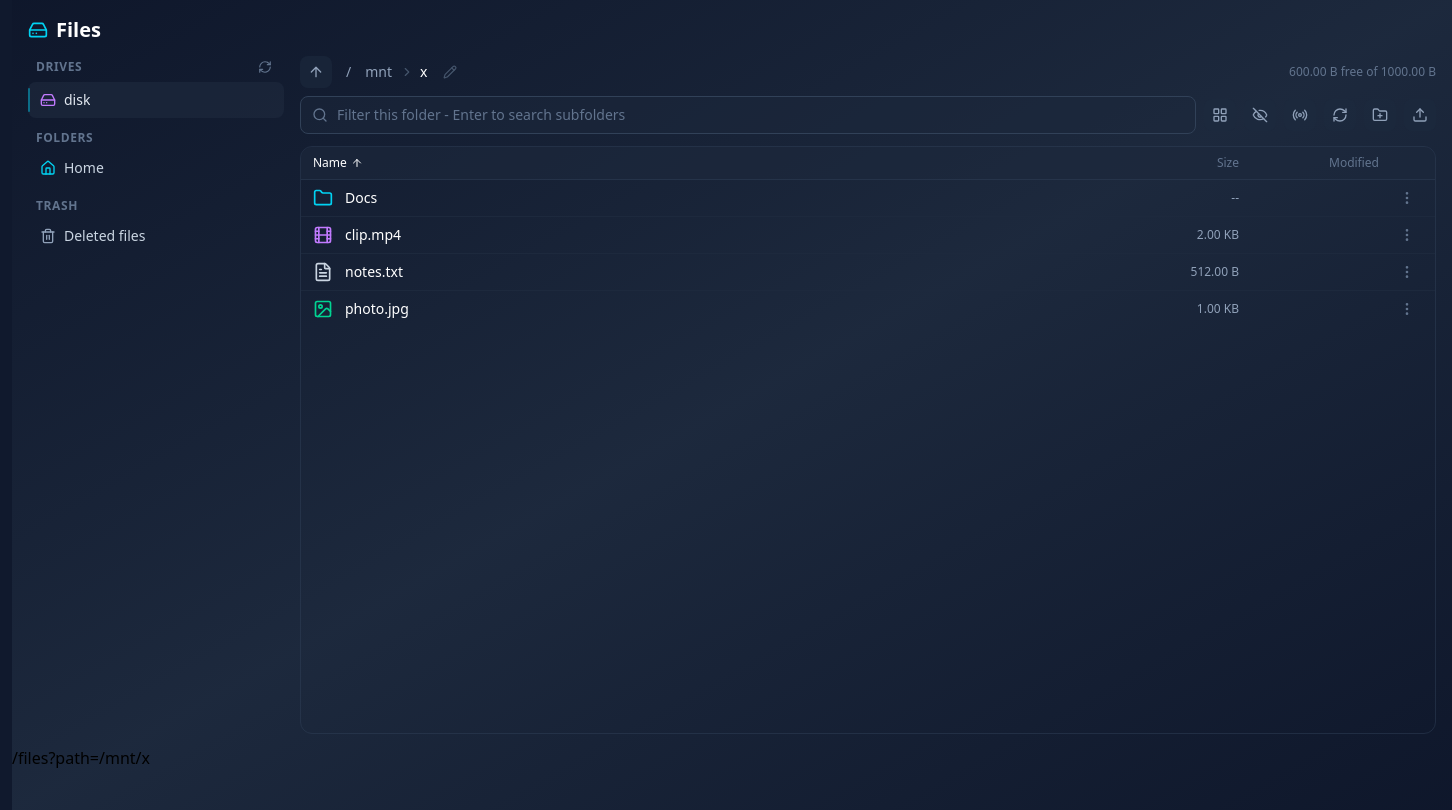
ExplorerPage - click opens, press-and-hold selects › shift-click selects the range from the last toggled row; meta-click toggles like ctrl
Check: the text "clip.mp4" is shown, box [345, 225, 401, 245]
Click the element showing "Docs --" at [868, 198], box [301, 180, 1435, 217]
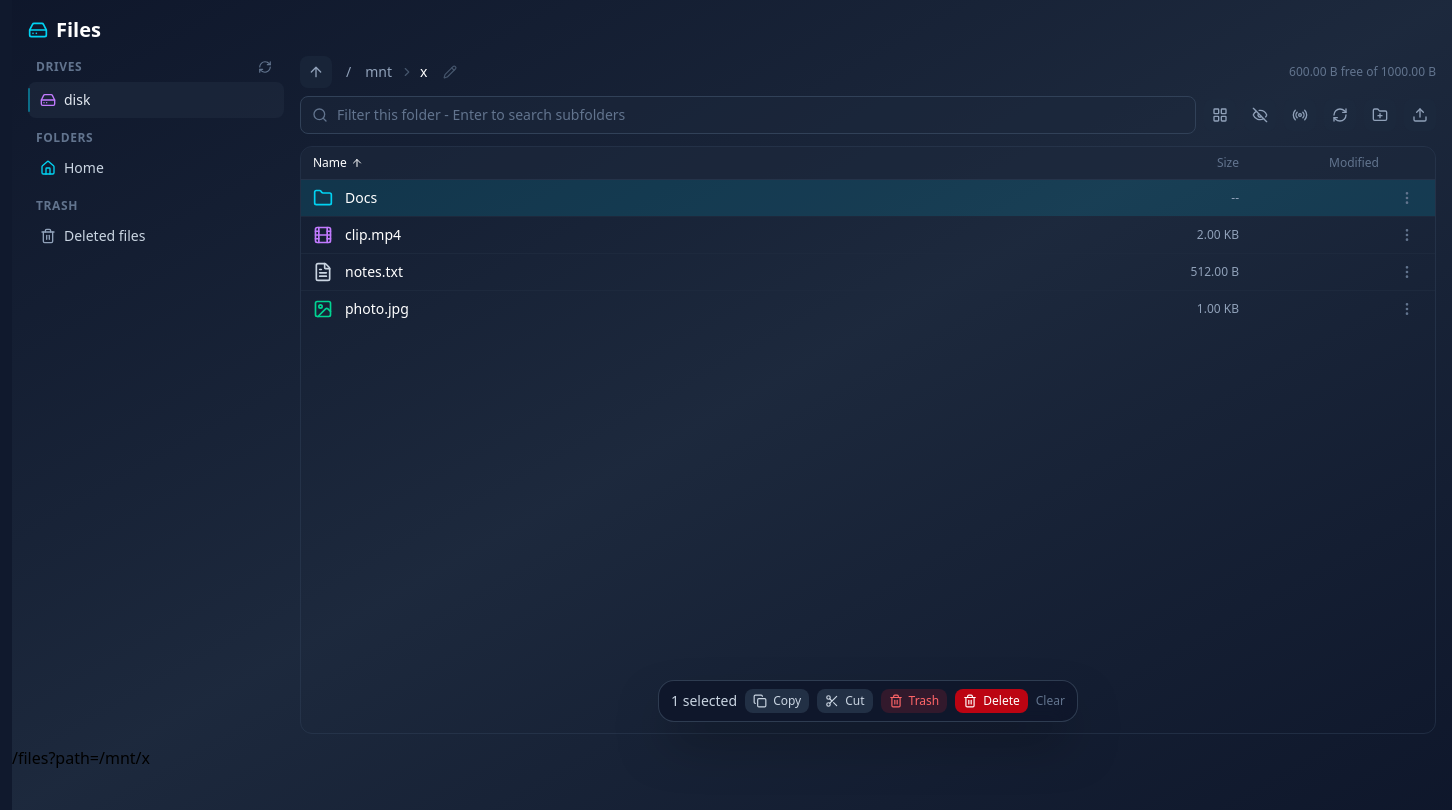
Click the element showing "notes.txt 512.00 B" at [868, 272], box [301, 254, 1435, 291]
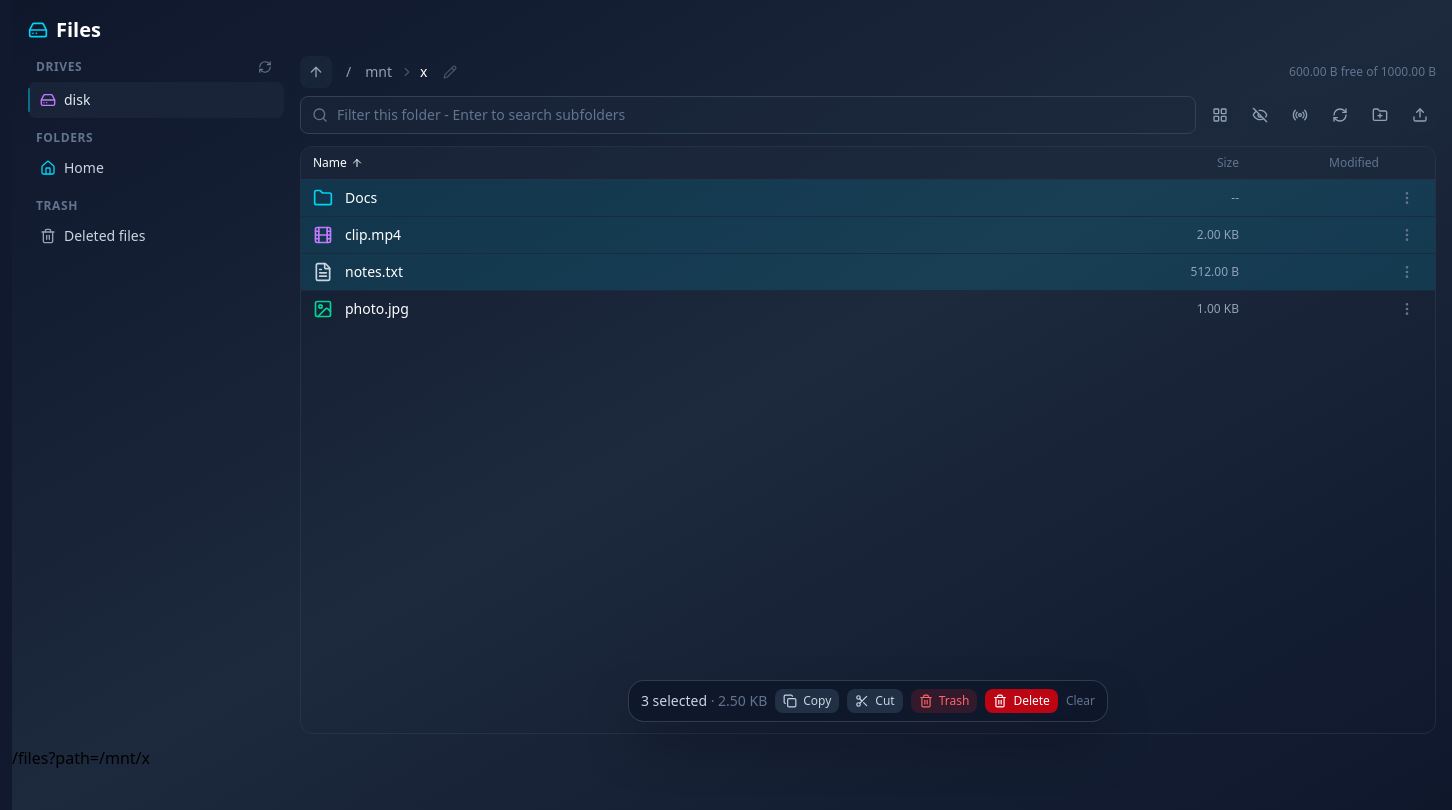
Check: the text "3 selected" is shown, box [641, 691, 767, 711]
// The anchor outlives a Clear, so the next shift-click ranges from it again
Click the button "Clear" at [1080, 701], box [1066, 693, 1095, 709]
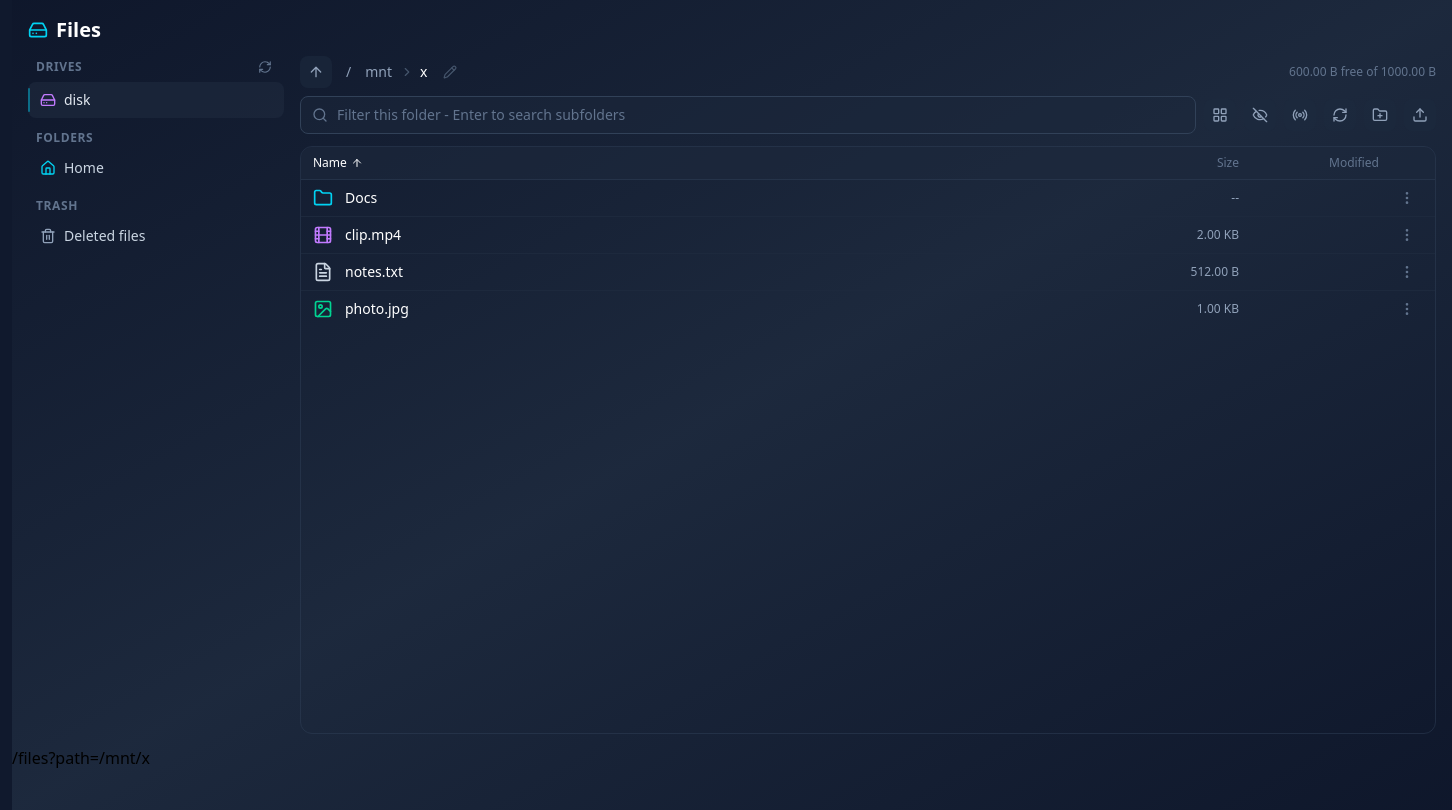
Click the element showing "photo.jpg 1.00 KB" at [377, 308], box [313, 299, 1423, 319]
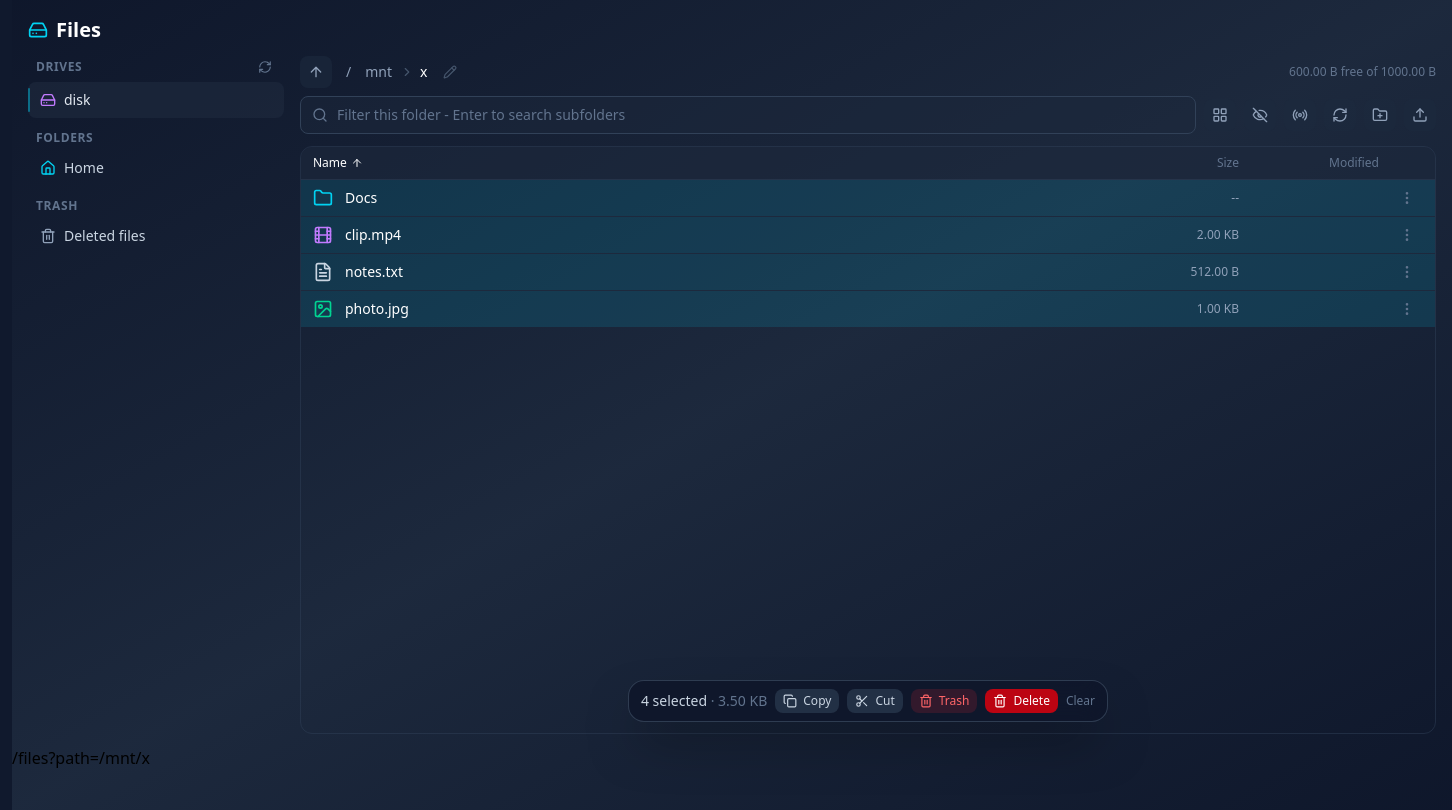
Check: the text "4 selected" is shown, box [641, 691, 767, 711]
